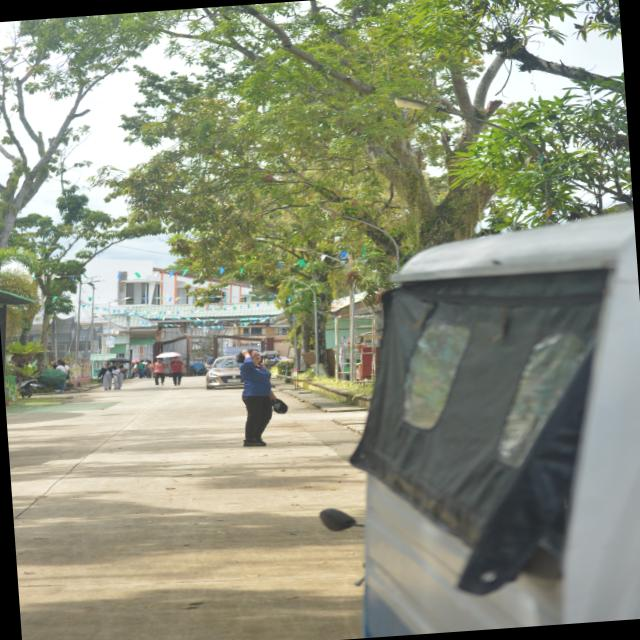person: (237, 350, 275, 446), (168, 357, 183, 385), (98, 363, 111, 390), (152, 359, 164, 385)
